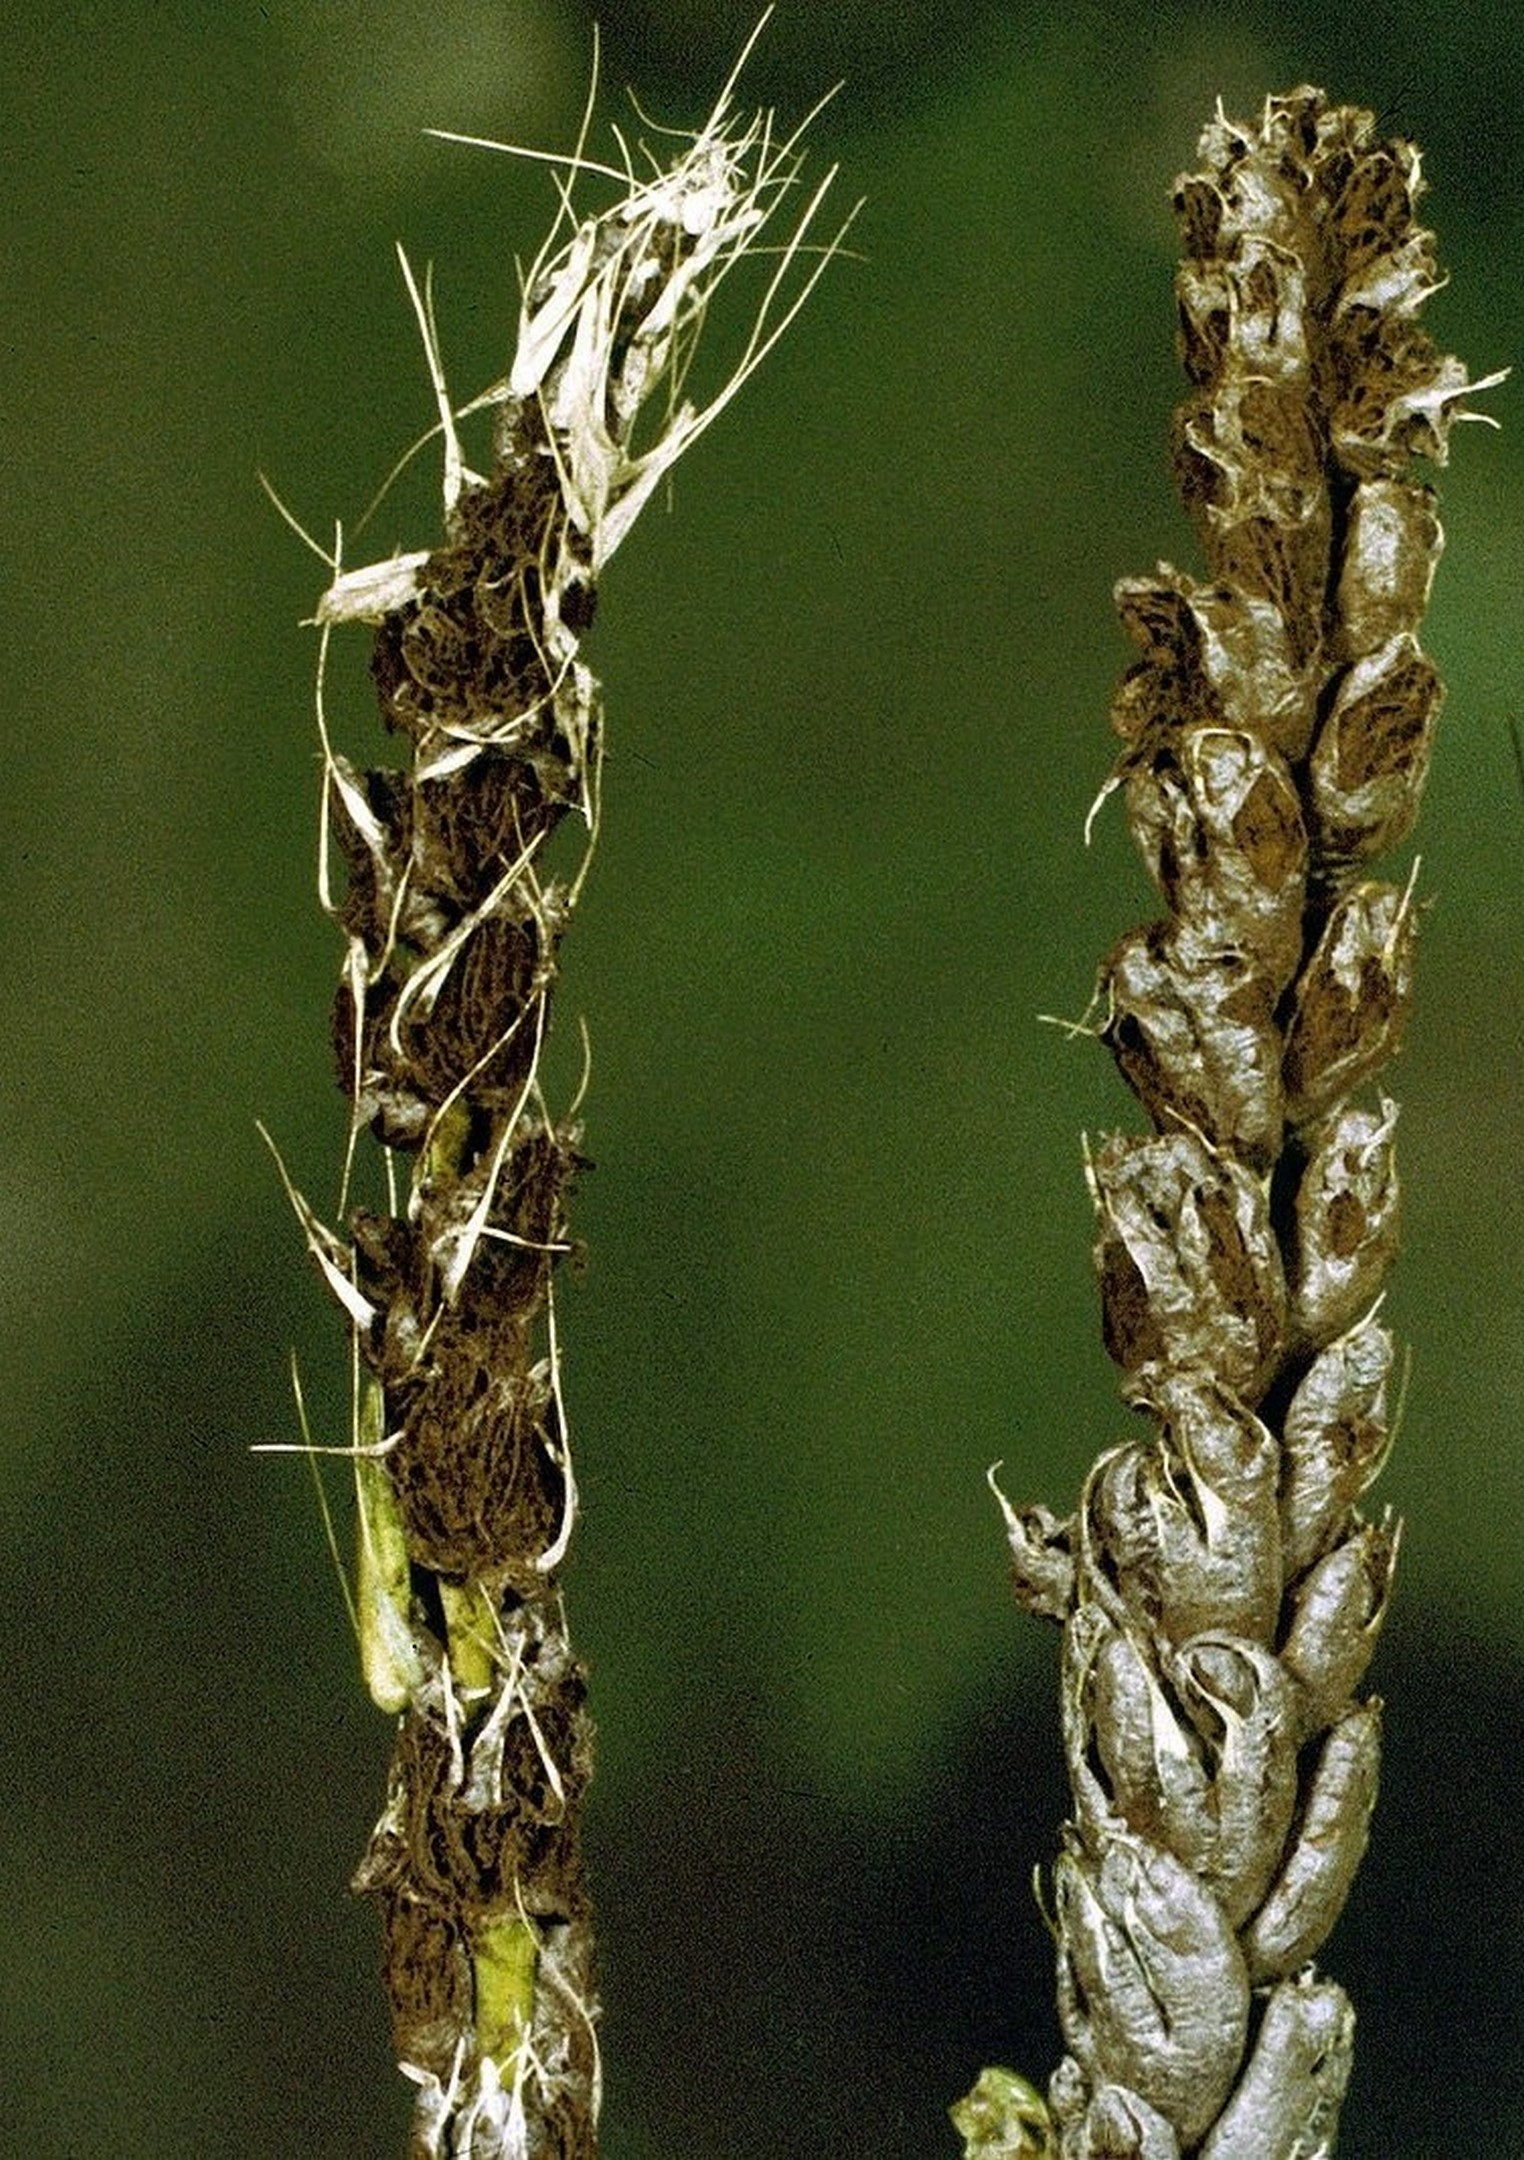Wheat Loose Smut: (897, 77, 1519, 2160), (252, 173, 811, 2160)
